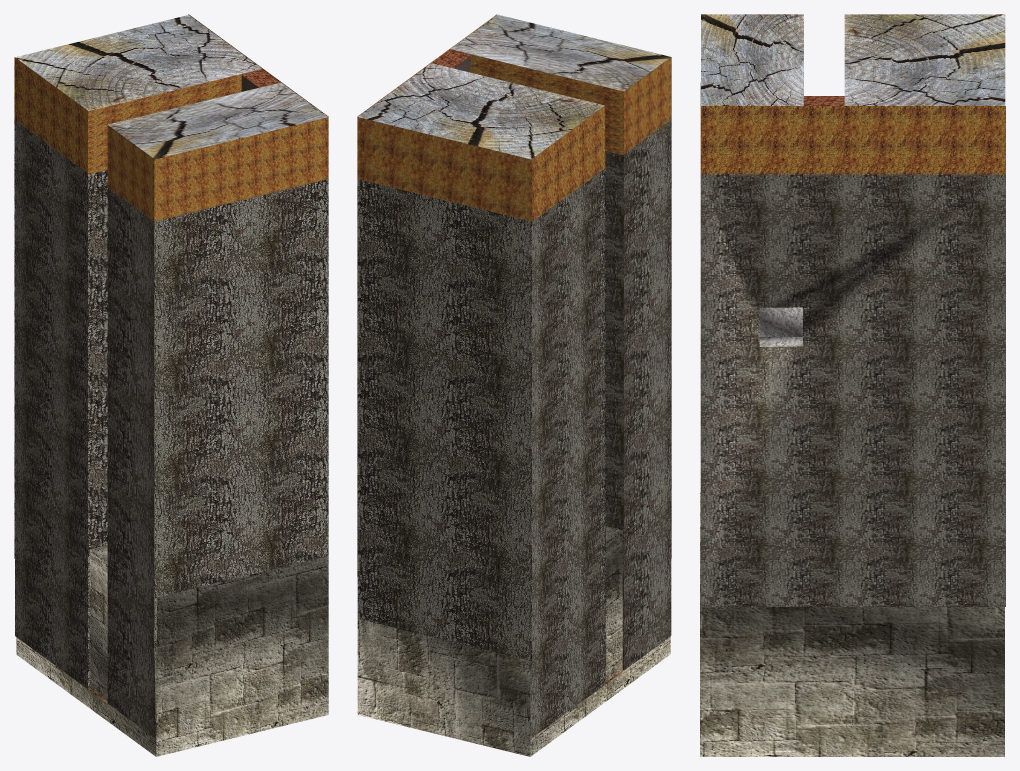
The model's file is pro_big_stump.obj.
3 renders of one model, left to right at view 1: azimuth 30°, elevation 25°; view 2: azimuth 150°, elevation 25°; view 3: azimuth 270°, elevation 25°, orthographic. The views are drawn at different scales.
Visible parts, largest first — view 1: Cube; view 2: Cube; view 3: Cube.
Boxes of the visible parts, x1,y1,x2,y2 form: Cube: [14, 14, 328, 756]; Cube: [357, 14, 671, 756]; Cube: [700, 14, 1005, 756].
Bounding box in the file's own units: 17.28 × 56.54 × 24.07.
